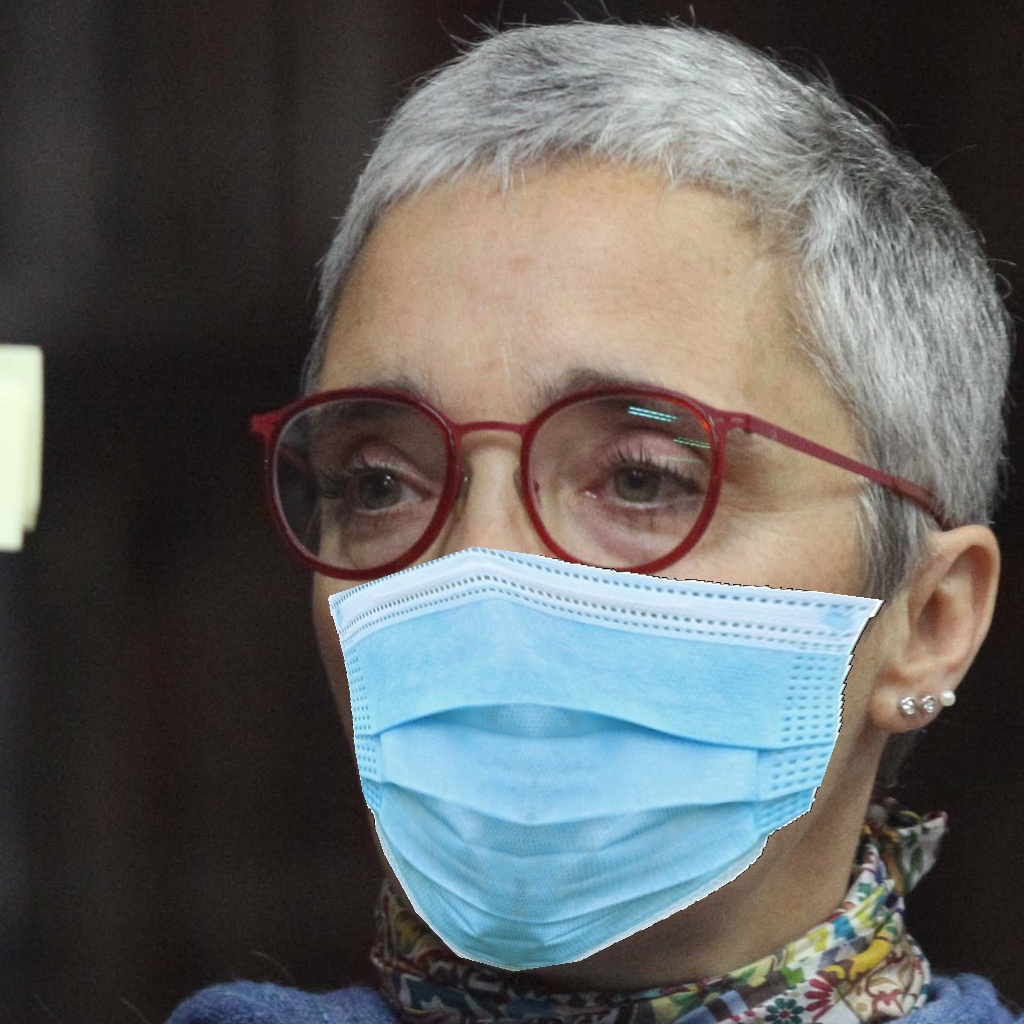Mask: (301, 361, 883, 974)
